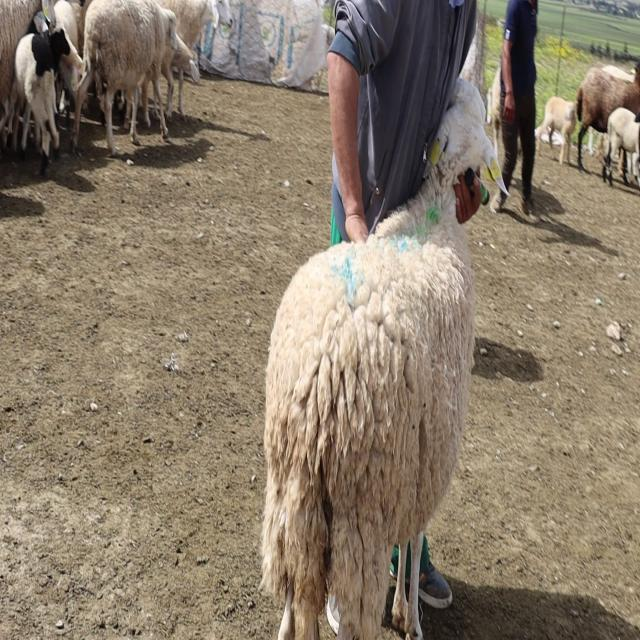Score_2: (260, 78, 509, 639)
